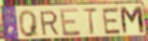E: (59, 8, 83, 38), (102, 7, 123, 36)
M: (118, 5, 147, 36)
Q: (17, 9, 41, 38)
R: (39, 10, 61, 37)
T: (81, 7, 99, 36)
